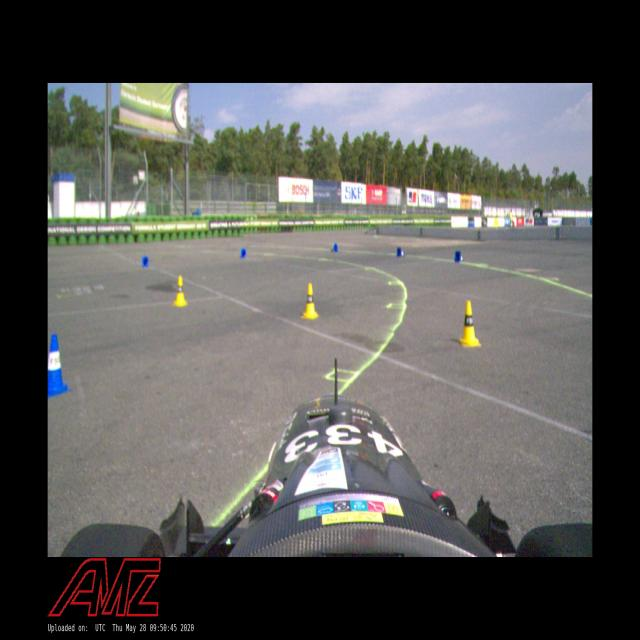blue_cone: (48, 334, 70, 396), (454, 251, 464, 262), (142, 255, 150, 267), (397, 247, 405, 257), (240, 248, 247, 258), (331, 243, 338, 252)
yellow_cone: (458, 300, 481, 347), (301, 282, 319, 318), (172, 275, 188, 308)
